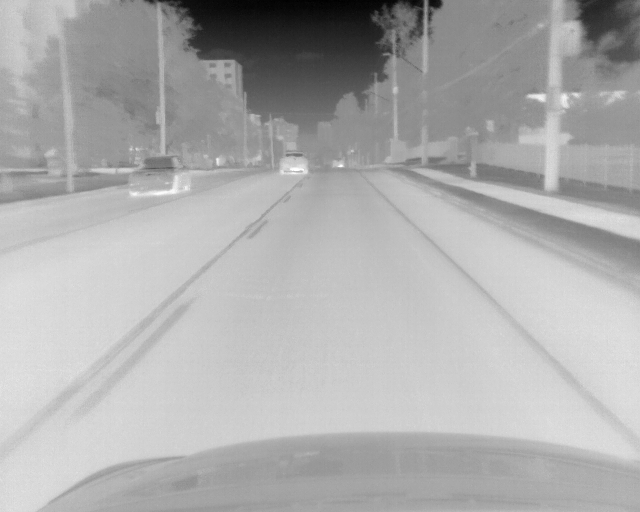car: (128, 154, 193, 198), (278, 151, 308, 177), (331, 156, 345, 169)
